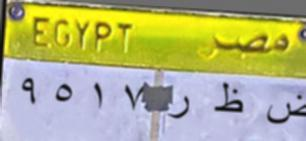1: (85, 79, 109, 115)
5: (50, 80, 77, 114)
7: (115, 81, 155, 113)
9: (17, 73, 43, 111)
Thaa: (210, 81, 250, 119)
daad: (263, 90, 306, 128)
raa: (167, 91, 194, 127)
